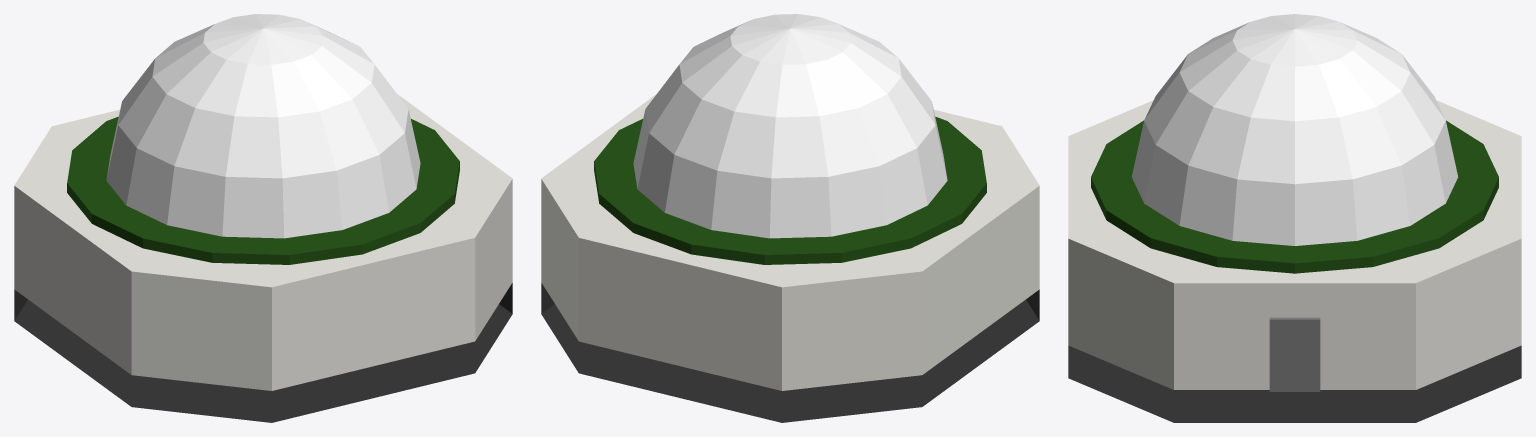
The model's file is radar_1.glb.
3 renders of one model, left to right at view 1: azimuth 30°, elevation 25°; view 2: azimuth 150°, elevation 25°; view 3: azimuth 270°, elevation 25°, orthographic. The views are drawn at different scales.
Parts seen in each view (by area): view 1: base, Sphere, frame; view 2: base, Sphere, frame; view 3: base, Sphere, frame, door.
Part boxes in pixels (box(x1,y1,x2,y2)): base: box(14, 94, 512, 422); Sphere: box(106, 14, 420, 238); frame: box(67, 116, 459, 264); base: box(541, 94, 1039, 422); Sphere: box(633, 14, 947, 238); frame: box(594, 116, 986, 264); base: box(1068, 100, 1521, 422); Sphere: box(1132, 14, 1457, 245); frame: box(1091, 120, 1498, 273); door: box(1269, 317, 1320, 391).
Size of the model in its own units: 1.26 by 0.9062 by 1.25.
